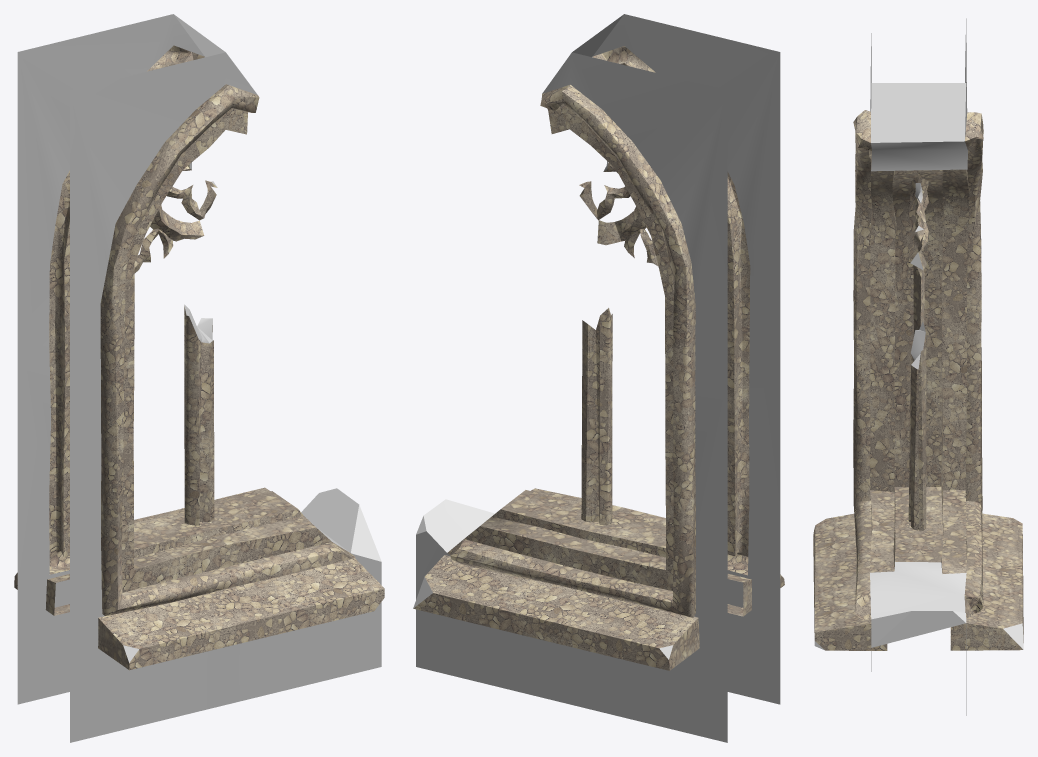
Rendered from SM_Ruins_Window_02.fbx.
3 views of the same model, side by side, from view 1: azimuth 30°, elevation 25°; view 2: azimuth 150°, elevation 25°; view 3: azimuth 270°, elevation 25° (orthographic). The views are drawn at different scales.
Parts seen in each view (by area): view 1: Window_3; view 2: Window_3; view 3: Window_3.
Boxes of the visible parts, bbox=[...] form: Window_3: bbox=[14, 14, 384, 742]; Window_3: bbox=[413, 14, 784, 742]; Window_3: bbox=[813, 18, 1023, 715].
Size of the model in its own units: 200 by 400 by 129.
